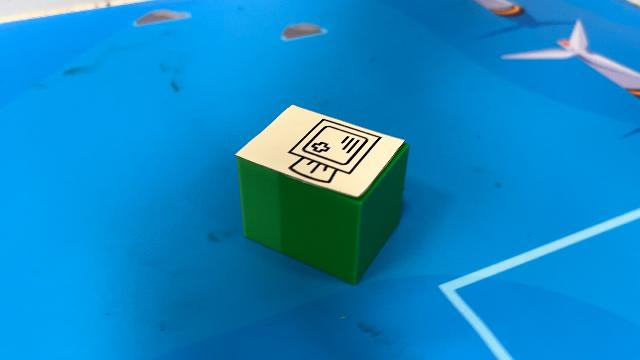napkin: (233, 102, 412, 286)
